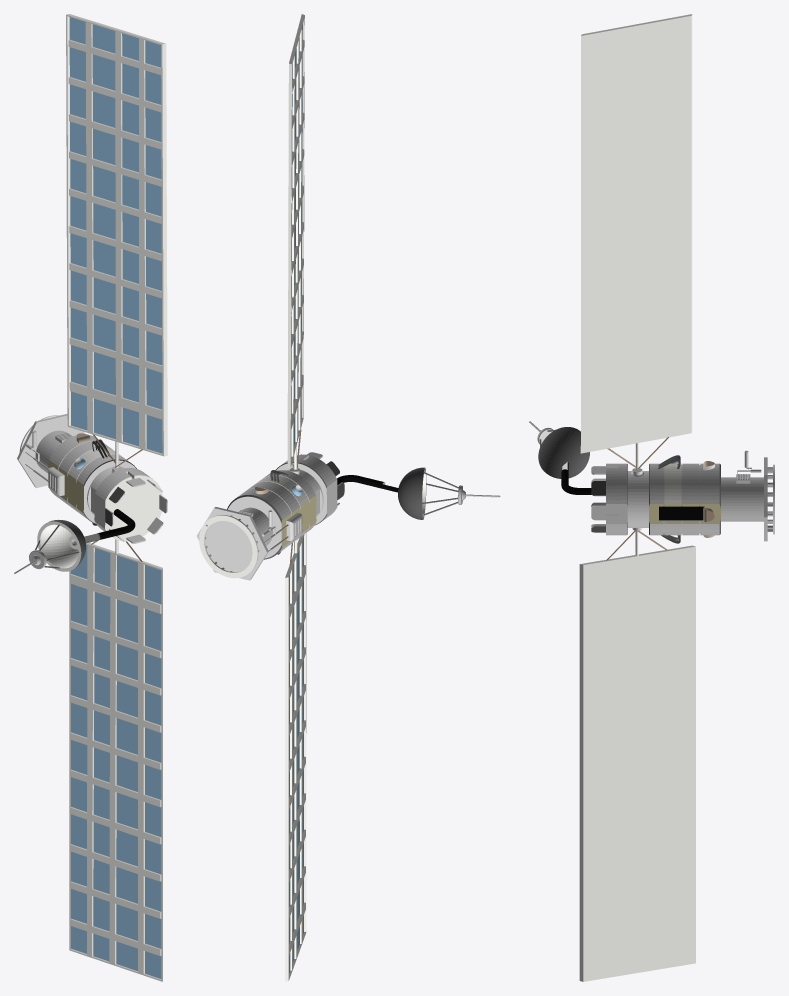
Rendered from satelite v1.glb.
The picture shows the model from 3 angles, left to right: view 1: azimuth 30°, elevation 25°; view 2: azimuth 150°, elevation 25°; view 3: azimuth 270°, elevation 25°; orthographic projection. The views are drawn at different scales.
Visible parts, largest first — view 1: Node1; view 2: Node1; view 3: Node1.
Part boxes in pixels (x1,y1,x2,y2): Node1: (14,14,167,981); Node1: (196,14,500,981); Node1: (529,14,774,981).
Bounding box in the file's own units: 31268 × 145377 × 34211.
